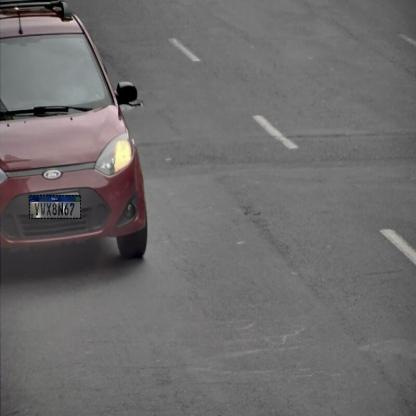PlacaM: (29, 195, 81, 219)
